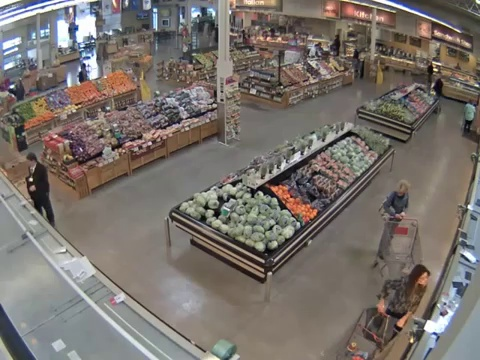face: (419, 273, 430, 285)
